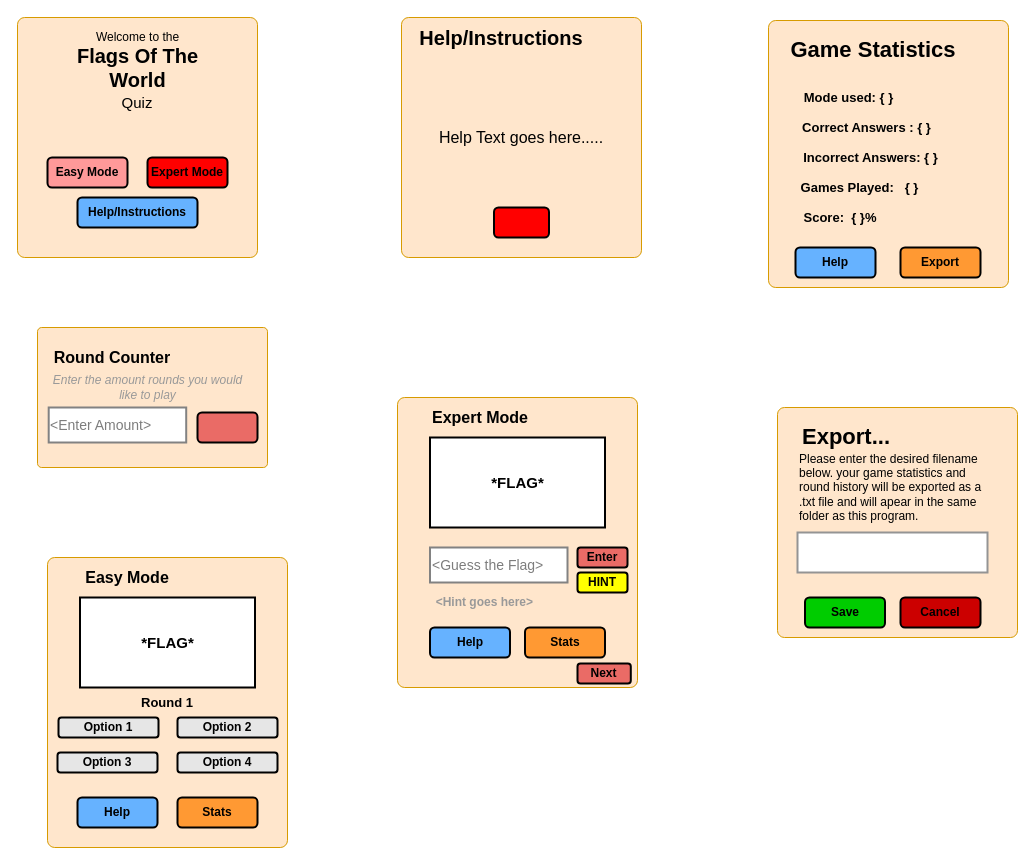
This 1035x865 diagram has some shape labels left out. Each missing label, with the centre of its shape:
"Dismiss" belongs at [521,222].
"Play" belongs at [227,427].
